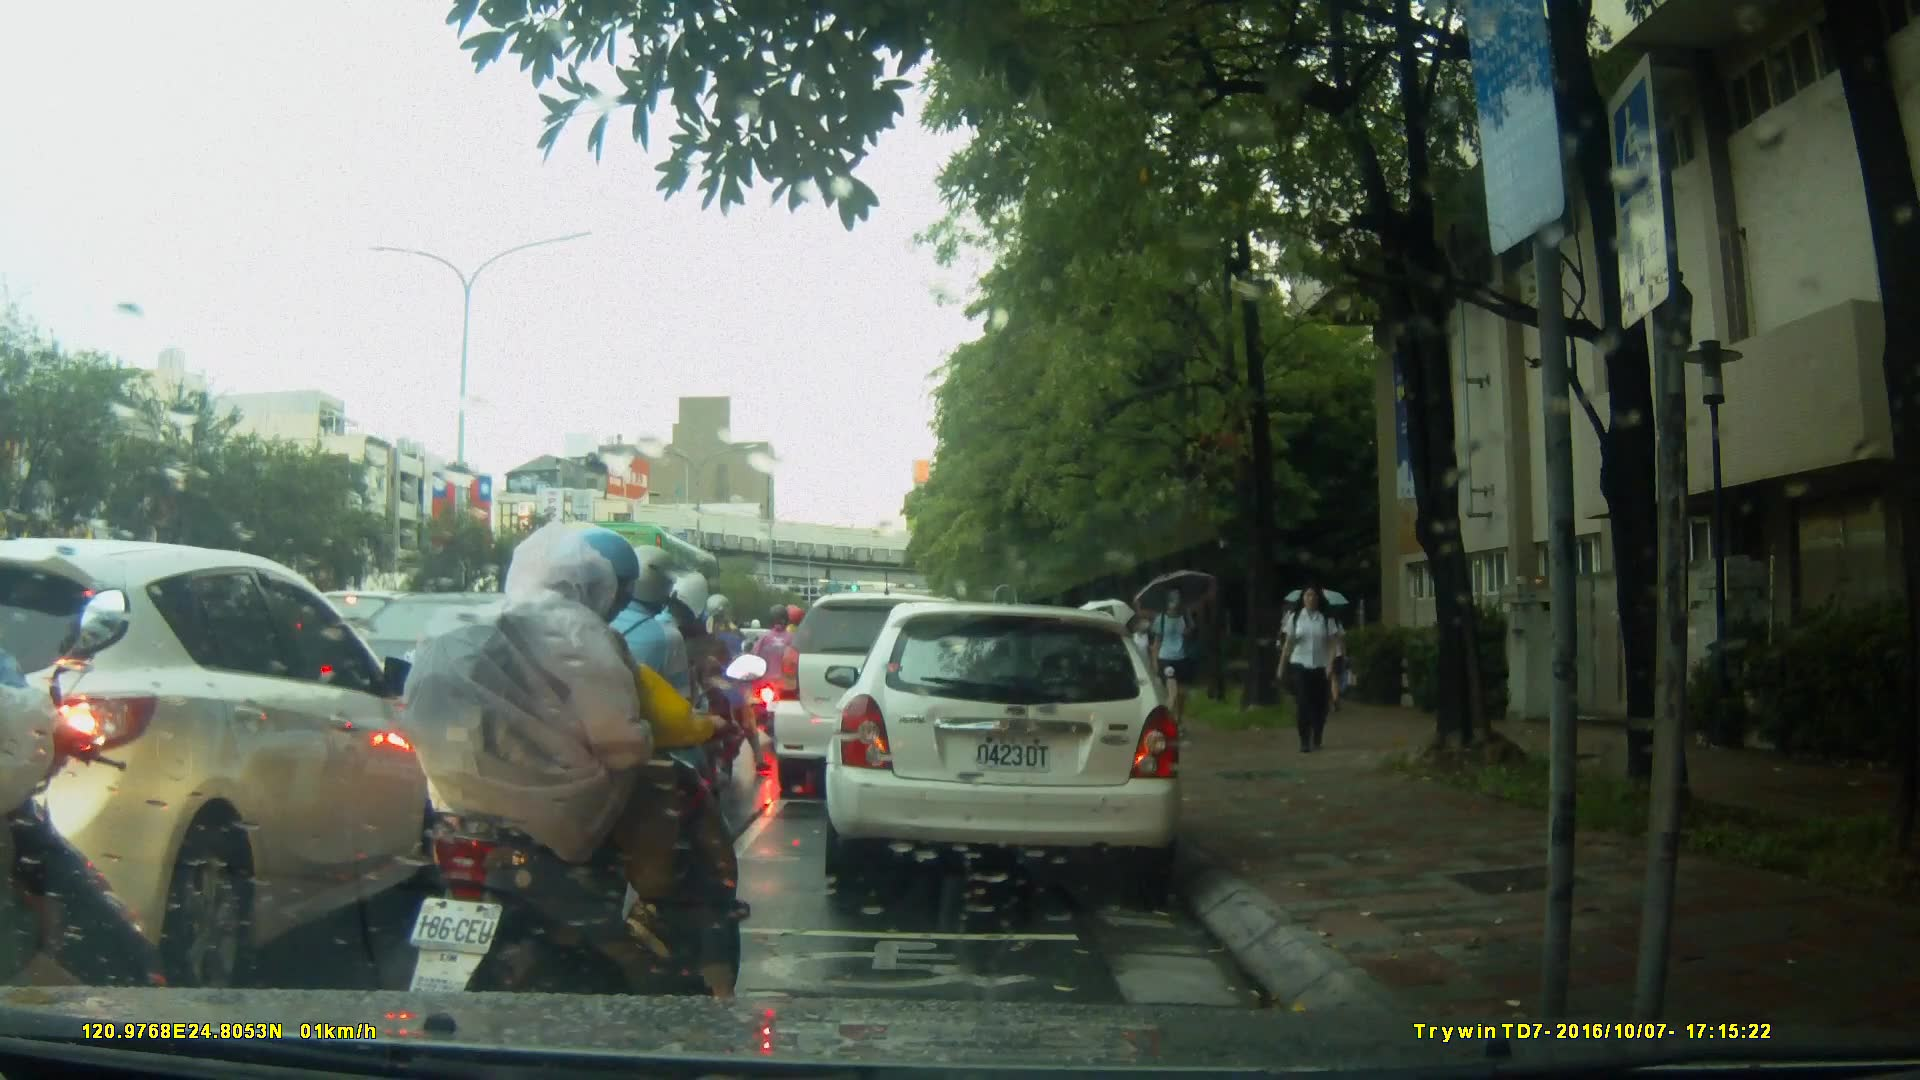pedestrian: (1275, 576, 1353, 754), (1142, 576, 1208, 741), (1134, 612, 1166, 724), (1097, 601, 1126, 715)
rider: (402, 521, 757, 1055), (1, 579, 175, 1078), (547, 546, 724, 885), (618, 573, 749, 859), (746, 601, 800, 755)
vehicle: (1, 538, 455, 989), (822, 604, 1186, 882), (774, 595, 995, 802), (554, 519, 739, 666)
